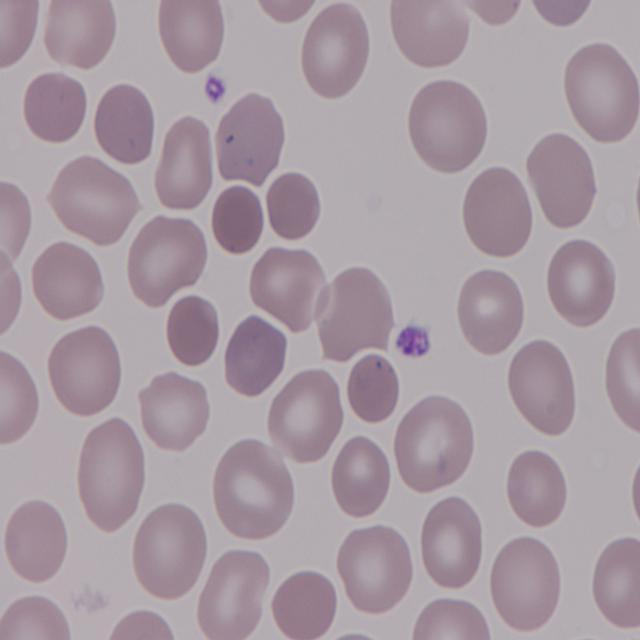RBC: (210, 438, 298, 545), (74, 418, 146, 540), (393, 392, 478, 495), (46, 156, 138, 250), (407, 74, 491, 176), (124, 213, 212, 309), (562, 40, 640, 147), (265, 368, 347, 468), (504, 334, 582, 439), (461, 160, 539, 264), (336, 523, 416, 624), (130, 501, 209, 602), (487, 530, 564, 632), (214, 84, 290, 186), (45, 324, 124, 421), (526, 132, 600, 233), (296, 2, 372, 99), (198, 544, 274, 640), (542, 236, 619, 329), (453, 262, 529, 356), (417, 494, 488, 594), (322, 264, 396, 358), (150, 110, 214, 216), (248, 242, 324, 330), (140, 367, 216, 454), (2, 494, 70, 586), (30, 239, 104, 323), (388, 0, 473, 73), (329, 433, 396, 523), (222, 313, 291, 398), (43, 0, 119, 75), (92, 82, 158, 168), (504, 445, 568, 531), (156, 0, 227, 76), (20, 72, 90, 148), (589, 533, 640, 627), (603, 321, 640, 440), (0, 346, 41, 449), (410, 597, 495, 640), (4, 591, 74, 639), (0, 174, 35, 267), (0, 0, 42, 69), (0, 250, 27, 344), (102, 610, 180, 640), (524, 1, 606, 28), (454, 0, 536, 26)
Spherocyte: (271, 567, 340, 639), (162, 291, 221, 374), (345, 349, 405, 426), (263, 170, 322, 247), (208, 182, 266, 260)
